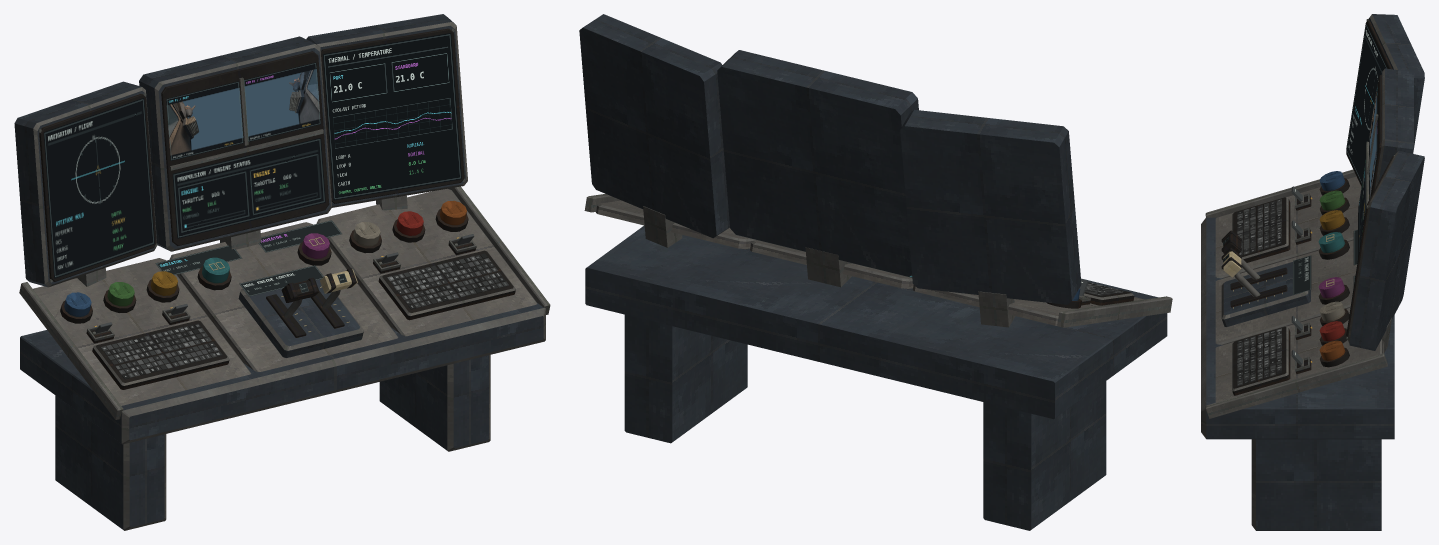
File: Cockpit.glb
3 renders of one model, left to right at view 1: azimuth 30°, elevation 25°; view 2: azimuth 150°, elevation 25°; view 3: azimuth 270°, elevation 25°, orthographic. The views are drawn at different scales.
Parts seen in each view (by area): view 1: Console_Undertray, Screen_Thermal, Screen_Navigation, Console_Right_Control_Panel, Screen_Engines, Console_Lower_Pedestal_L, Console_Center_Control_Panel, Console_Left_Control_Panel, Console_Lower_Pedestal_R, Monitor_Central_Case, Monitor_Navigation_Case, Monitor_Central_Inner_Gasket (+16 smaller); view 2: Console_Undertray, Monitor_Central_Case, Monitor_Navigation_Case, Monitor_Thermal_Case, Console_Lower_Pedestal_L, Console_Lower_Pedestal_R, Console_Side_Rail_-0.79, Console_Left_Control_Panel, Console_Center_Control_Panel, Console_Right_Control_Panel, Monitor_Central_Support, Monitor_Navigation_Support (+1 smaller); view 3: Console_Undertray, Console_Lower_Pedestal_R, Monitor_Thermal_Case, Console_Center_Control_Panel, Console_Left_Control_Panel, Monitor_Central_Case, Console_Right_Control_Panel, Screen_Navigation, Twin_Throttle_Quadrant, Console_Side_Rail_0.79, Monitor_Navigation_Case, Keyboard_R_Keys (+21 smaller).
Part boxes in pixels (box(x1,y1,x2,y2)): Console_Undertray: box(20, 303, 545, 444); Screen_Thermal: box(322, 33, 461, 200); Screen_Navigation: box(43, 98, 154, 278); Console_Right_Control_Panel: box(316, 188, 537, 336); Screen_Engines: box(172, 137, 325, 238); Console_Lower_Pedestal_L: box(55, 395, 166, 530); Console_Center_Control_Panel: box(169, 222, 398, 371); Console_Left_Control_Panel: box(33, 258, 250, 405); Console_Lower_Pedestal_R: box(379, 355, 490, 451); Monitor_Central_Case: box(139, 36, 331, 251); Monitor_Navigation_Case: box(14, 81, 156, 287); Monitor_Central_Inner_Gasket: box(161, 51, 329, 245); Console_Undertray: box(585, 225, 1167, 419); Monitor_Central_Case: box(717, 50, 918, 276); Monitor_Navigation_Case: box(900, 109, 1081, 304); Monitor_Thermal_Case: box(579, 14, 729, 238); Console_Lower_Pedestal_L: box(983, 381, 1106, 530); Console_Lower_Pedestal_R: box(624, 314, 747, 443); Console_Side_Rail_-0.79: box(1057, 296, 1172, 327); Console_Left_Control_Panel: box(912, 284, 1144, 325); Console_Center_Control_Panel: box(750, 240, 913, 288); Console_Right_Control_Panel: box(596, 200, 758, 249); Monitor_Central_Support: box(805, 247, 851, 287); Monitor_Navigation_Support: box(978, 291, 1015, 327); Console_Undertray: box(1201, 217, 1394, 439); Console_Lower_Pedestal_R: box(1251, 439, 1381, 530); Monitor_Thermal_Case: box(1348, 151, 1424, 350); Console_Center_Control_Panel: box(1215, 240, 1356, 344); Console_Left_Control_Panel: box(1215, 176, 1361, 278); Monitor_Central_Case: box(1374, 68, 1413, 189); Console_Right_Control_Panel: box(1215, 307, 1383, 402); Screen_Navigation: box(1346, 23, 1387, 184); Twin_Throttle_Quadrant: box(1221, 262, 1310, 326); Console_Side_Rail_0.79: box(1205, 353, 1387, 418); Monitor_Navigation_Case: box(1368, 14, 1424, 153); Keyboard_R_Keys: box(1237, 328, 1281, 385).
Bounding box in the file's own units: 1.61 × 1.32 × 0.775.
33 materials, 23 textured.
